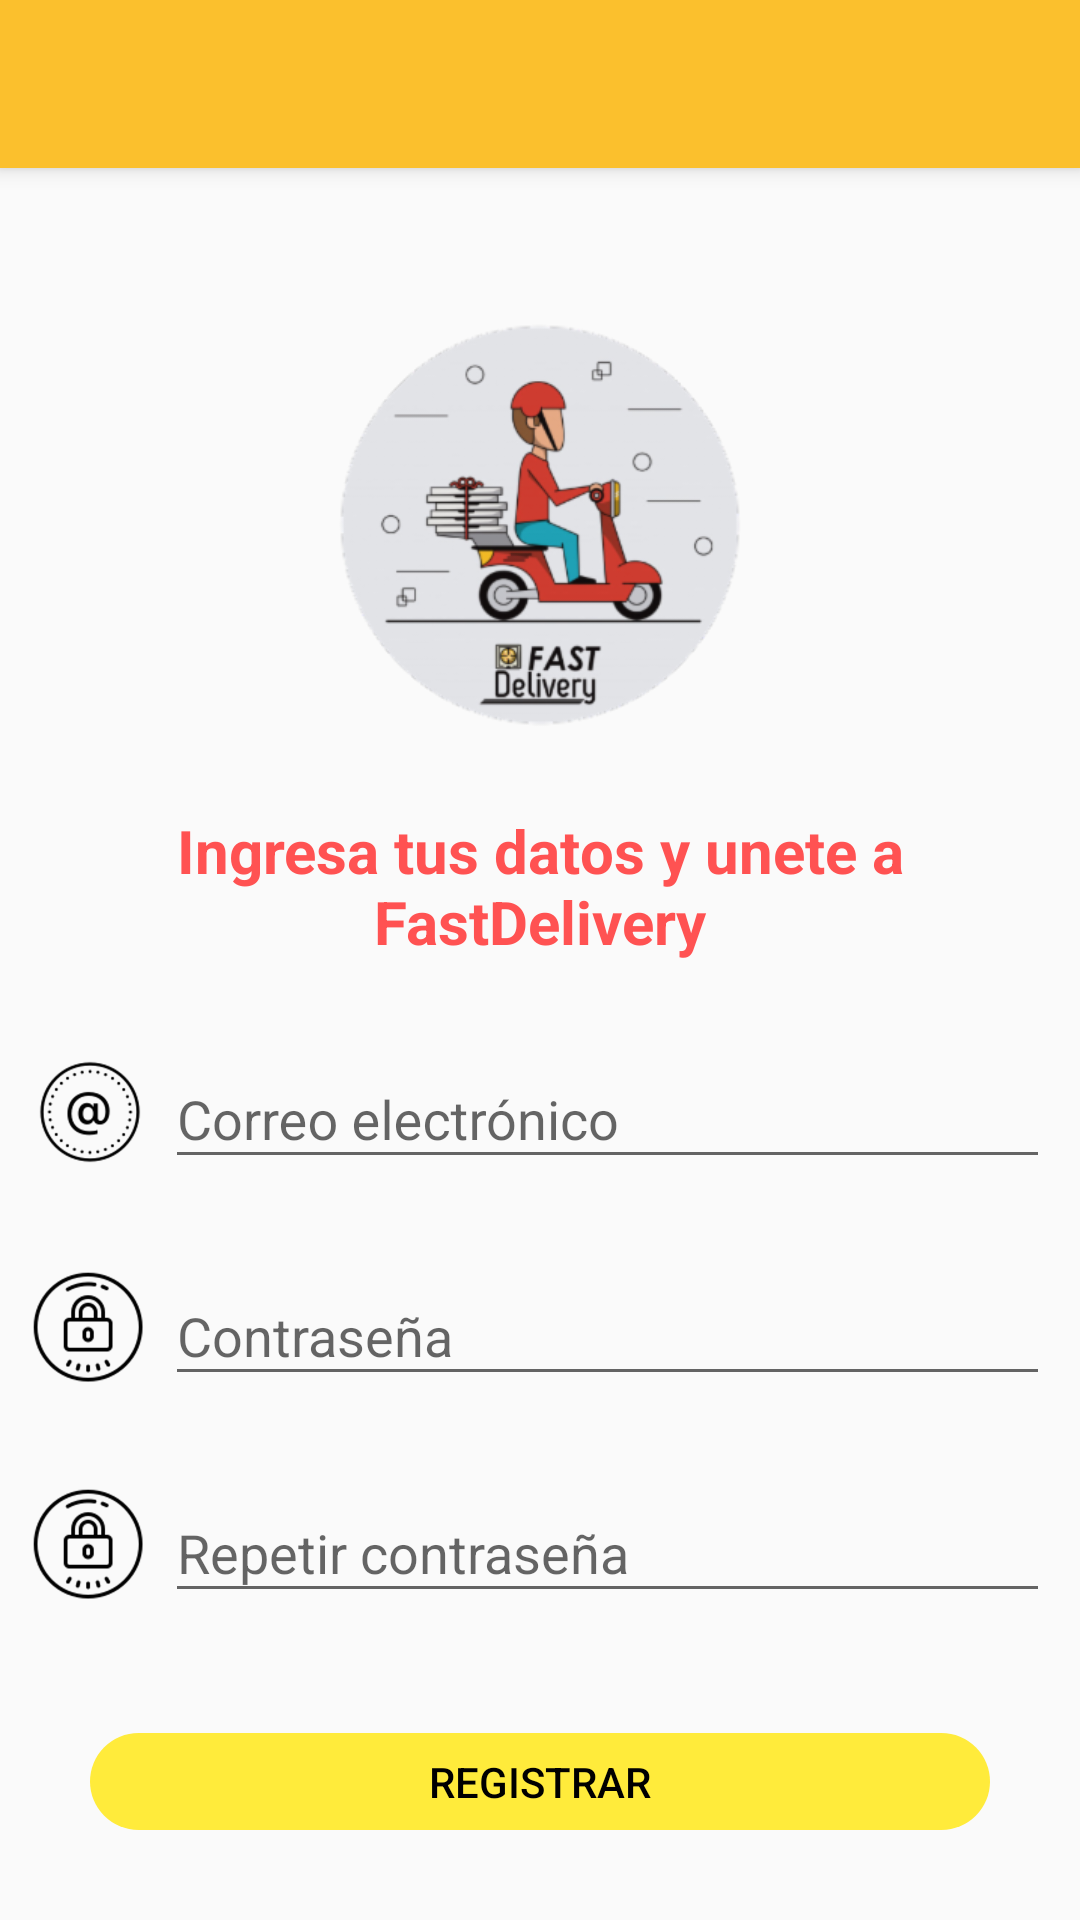

Icons on this 1080×1920 Android screen, each with the point to tap as point (x, y):
iconocontrasena: point (88, 1327), point (88, 1544)
iconoemail: point (90, 1112)
